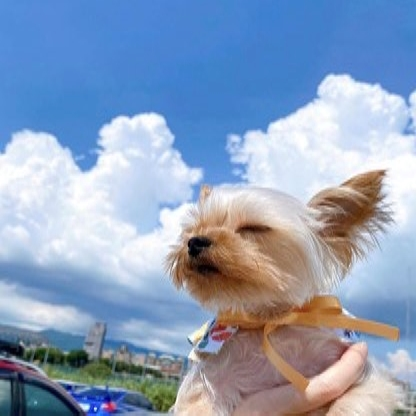yorkshire: (160, 167, 401, 416)
